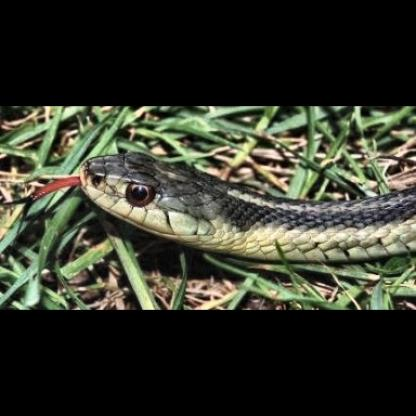Snake: (72, 149, 416, 266)
